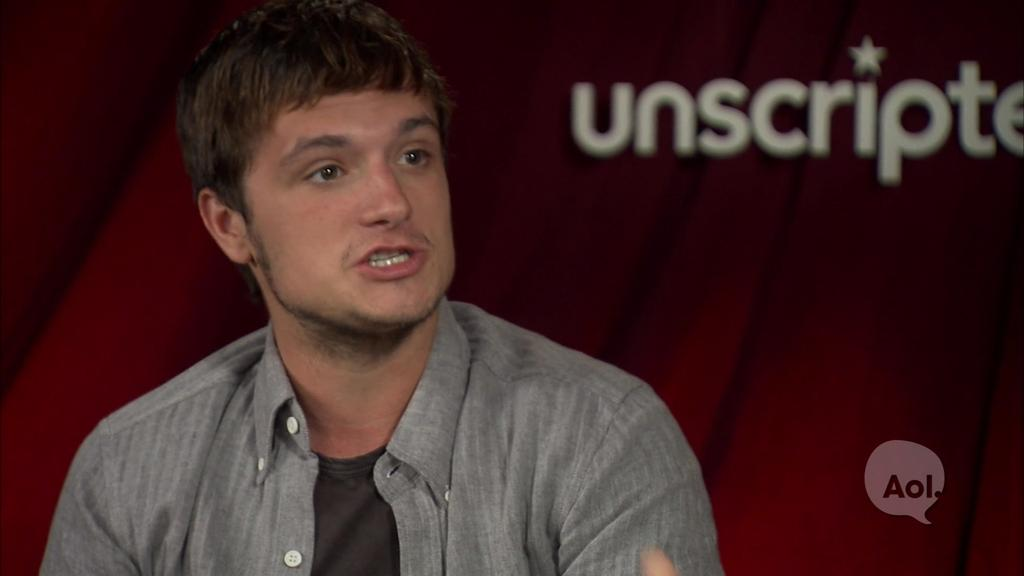face: (248, 88, 452, 334)
